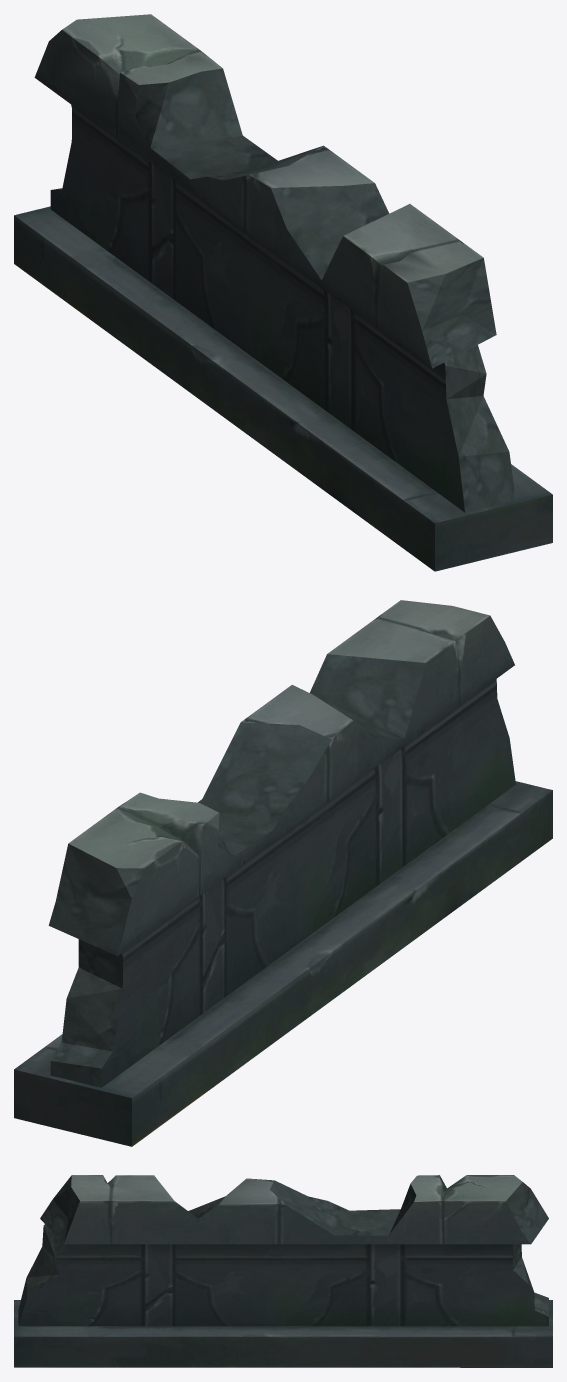
The model's file is Moba_qiang03.FBX.
The picture shows the model from 3 angles, top to bottom: view 1: azimuth 30°, elevation 25°; view 2: azimuth 150°, elevation 25°; view 3: azimuth 270°, elevation 25°; orthographic projection. The views are drawn at different scales.
Visible parts, largest first — view 1: Moba_qiang03; view 2: Moba_qiang03; view 3: Moba_qiang03.
Boxes of the visible parts, x1,y1,x2,y2 form: Moba_qiang03: (14, 14, 552, 571); Moba_qiang03: (14, 600, 552, 1146); Moba_qiang03: (14, 1175, 552, 1367).
Bounding box in the file's own units: 1.63 × 10.05 × 3.32.
